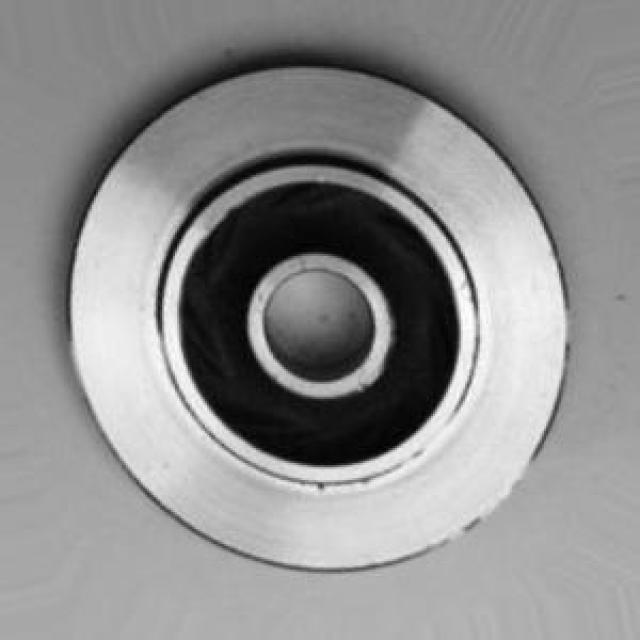Defect: (304, 475, 343, 503)
